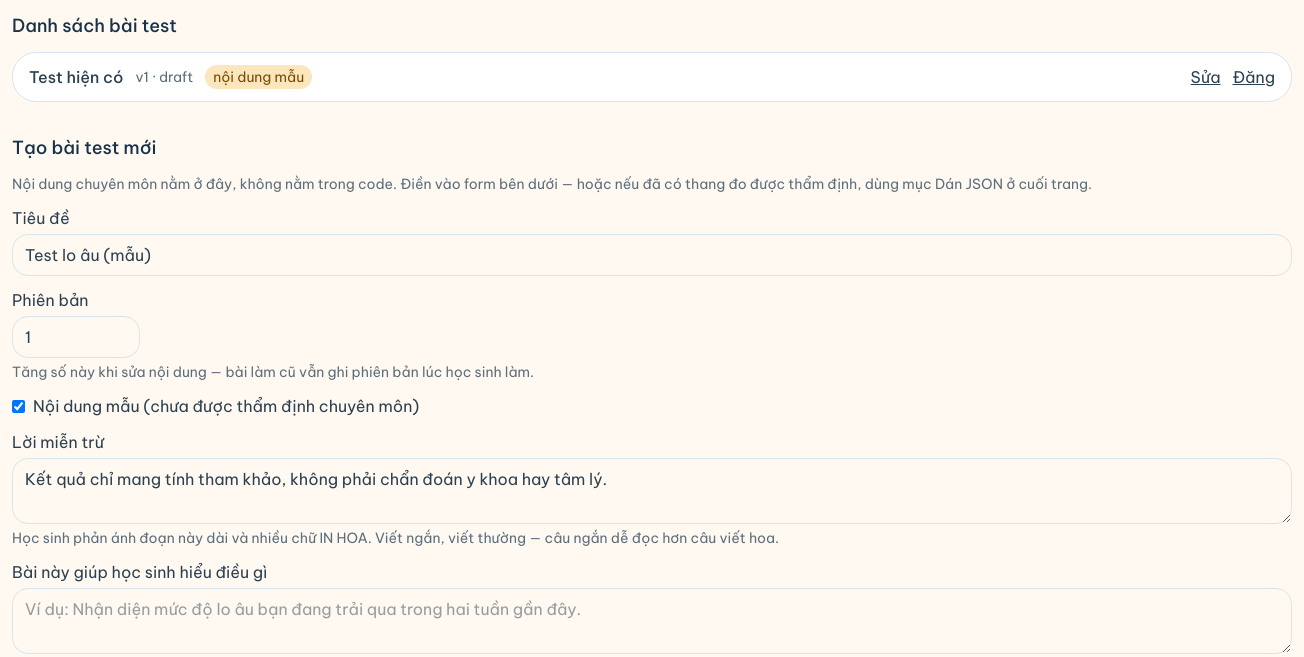
Test: TestEditor › khi tải lại SAU khi đổi trạng thái đăng thất bại: chuyển sang trạng thái lỗi thay vì giữ danh sách cũ
Expected: the text "Test hiện có" is shown, [29,65,123,89]
Click the button "Đăng": (1254,77) [1232,65,1275,89]
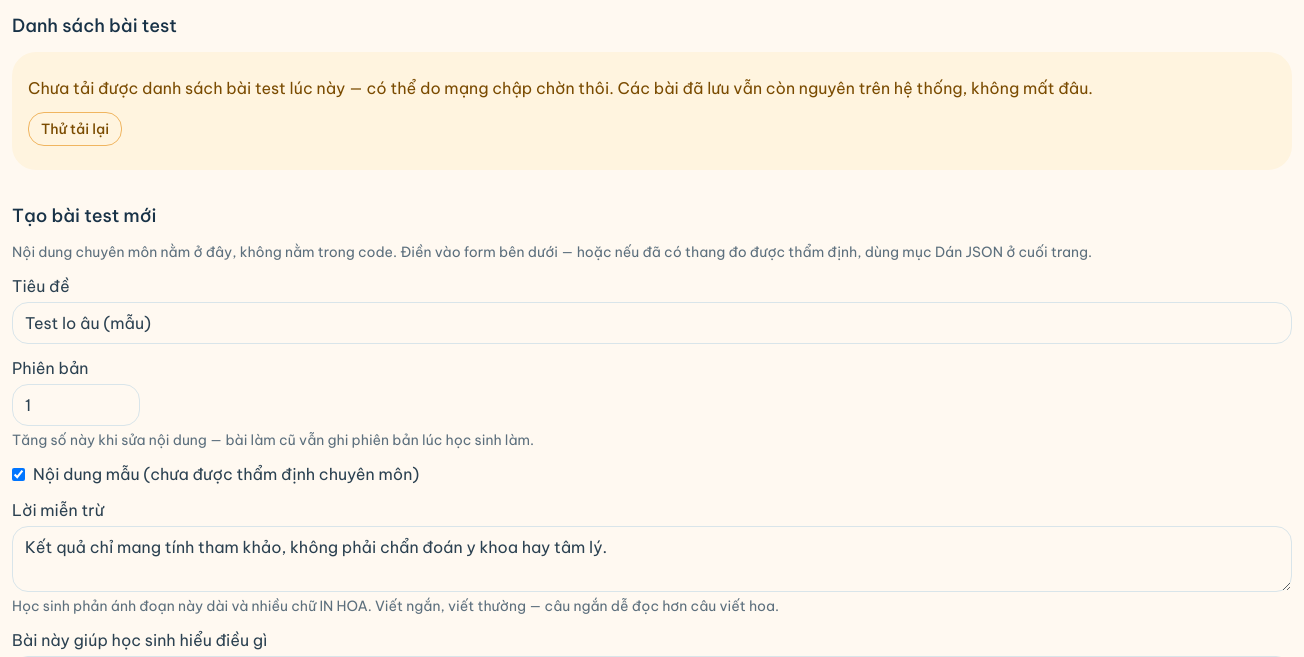
Expected: the text "Chưa tải được danh sách bài test" is shown, [28,78,1093,98]
Expected: the text "Test hiện có" is gone
